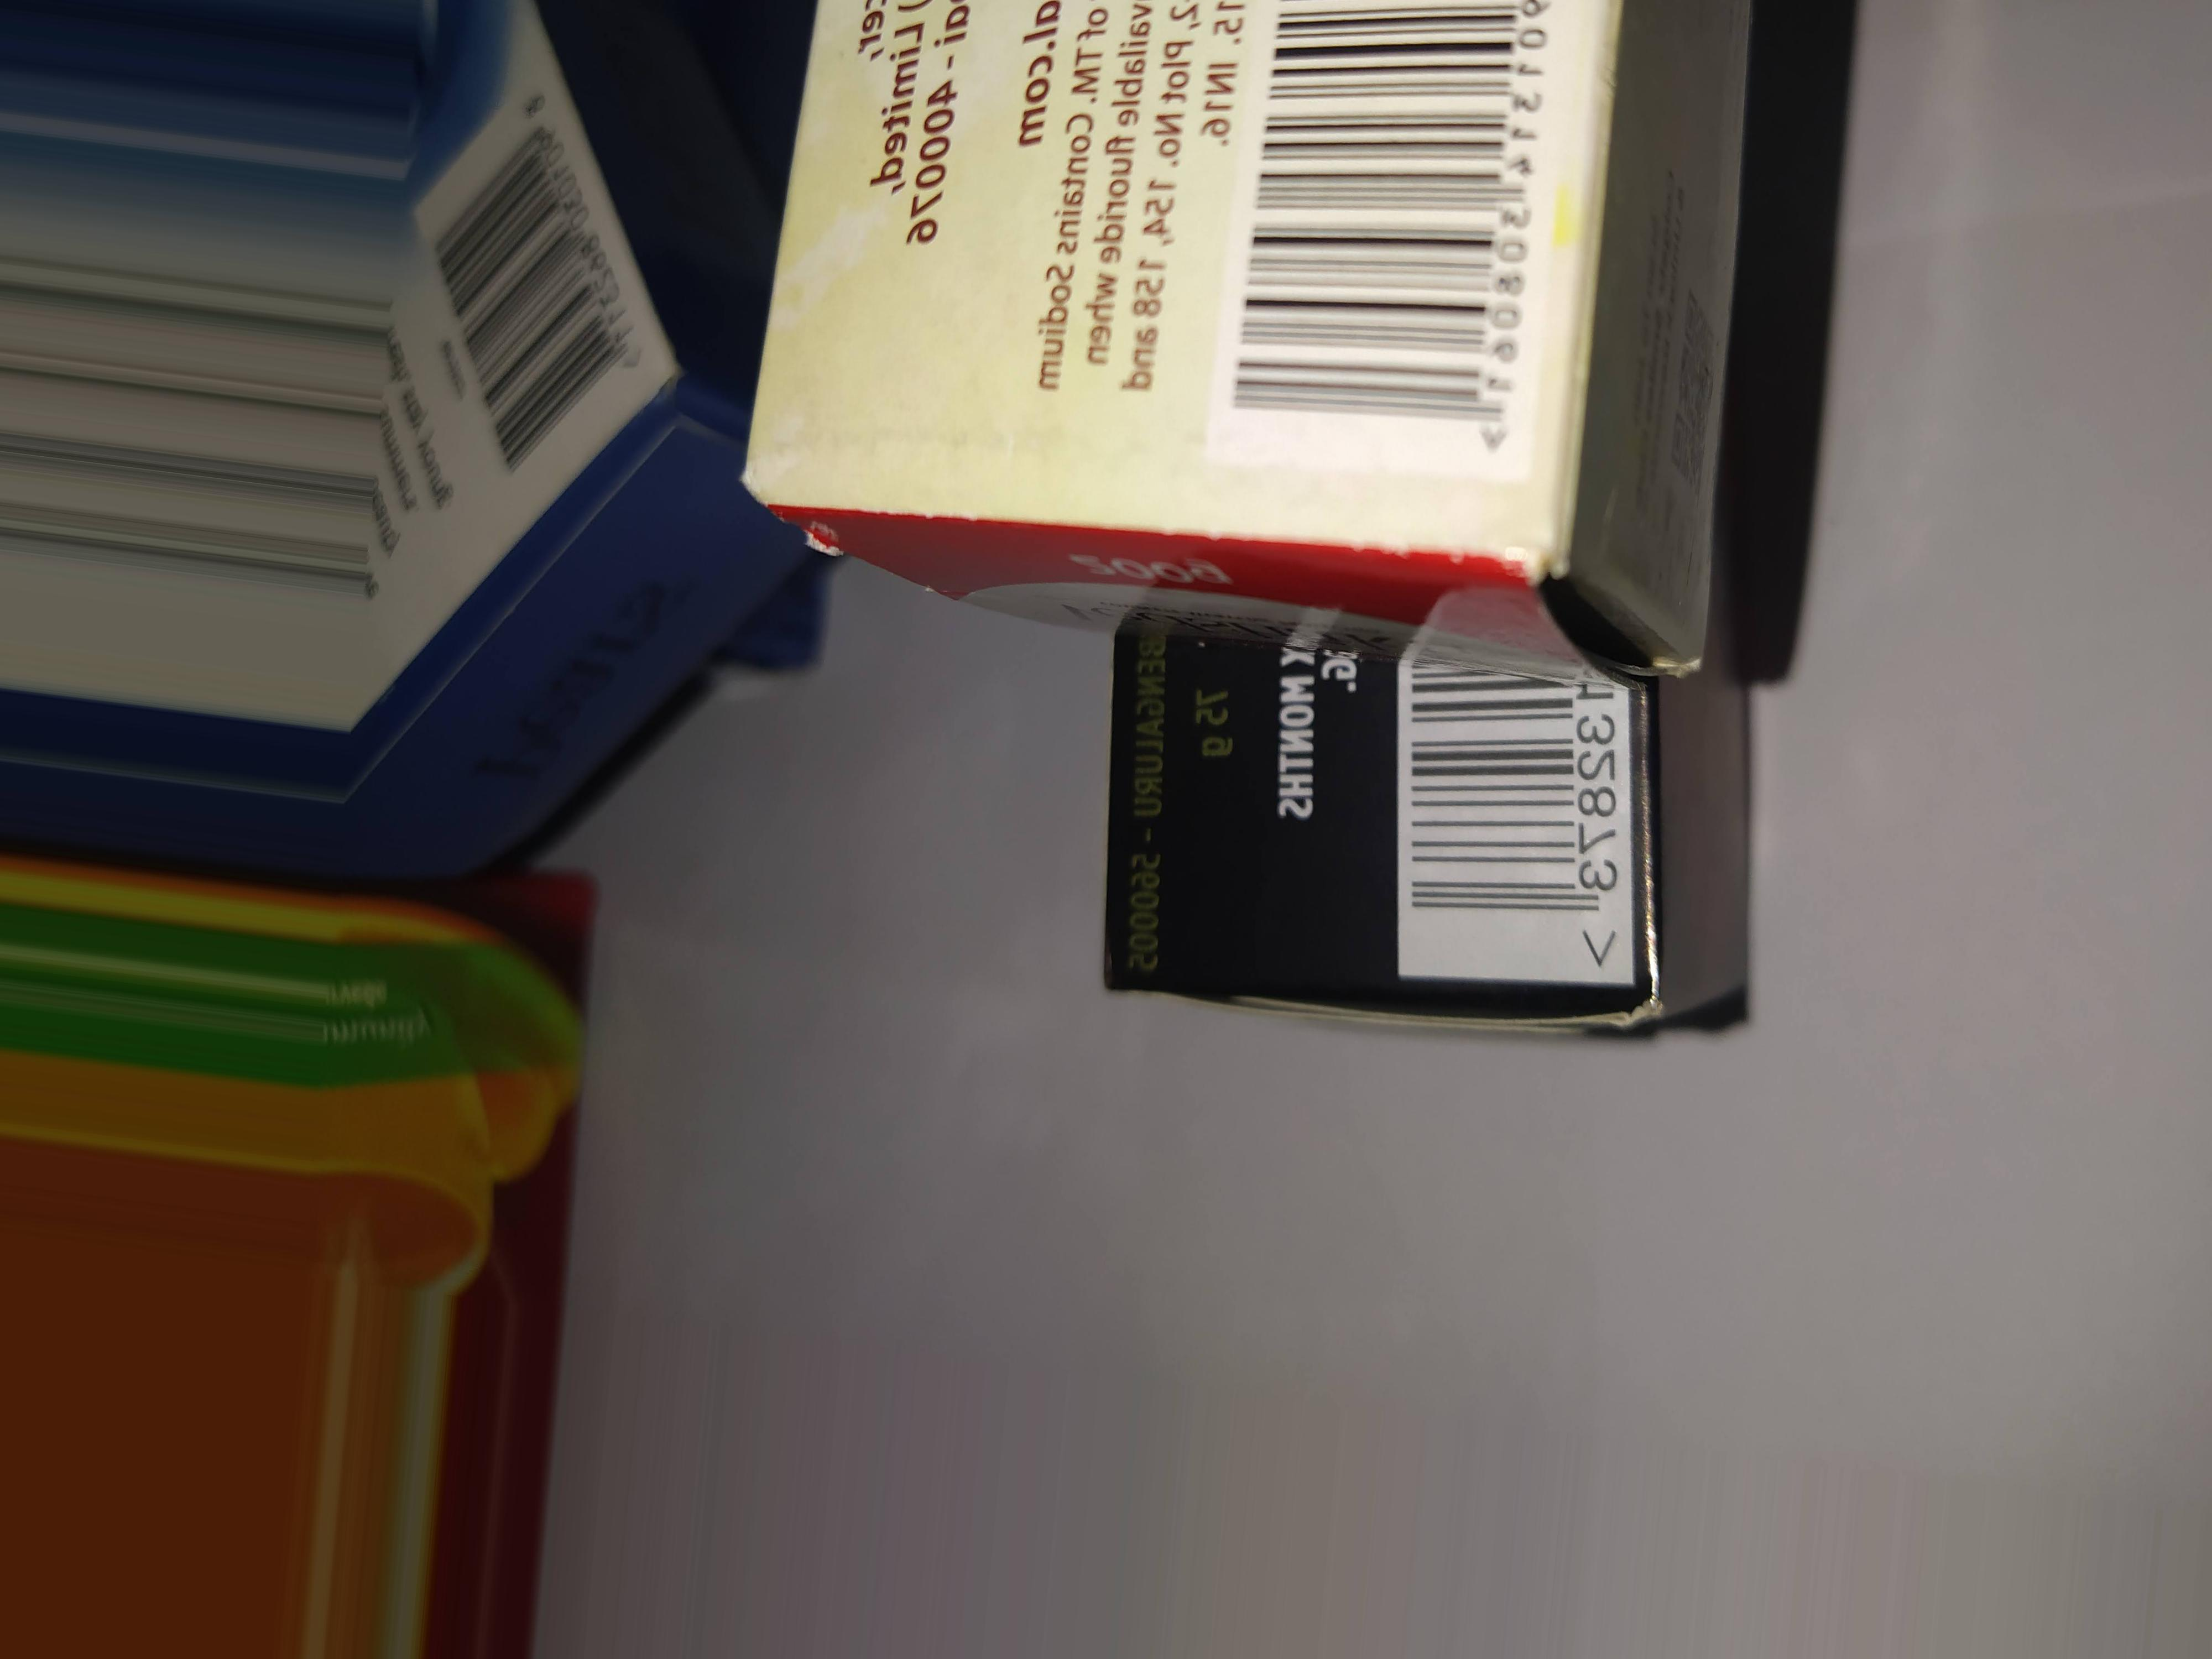Bar_code: (1230, 0, 1554, 460), (1372, 638, 1665, 1019), (425, 141, 674, 458)
Item: (31, 845, 732, 1659)
